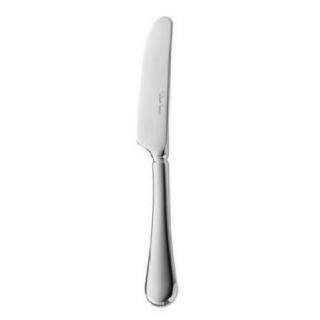knife: (115, 6, 208, 173)
